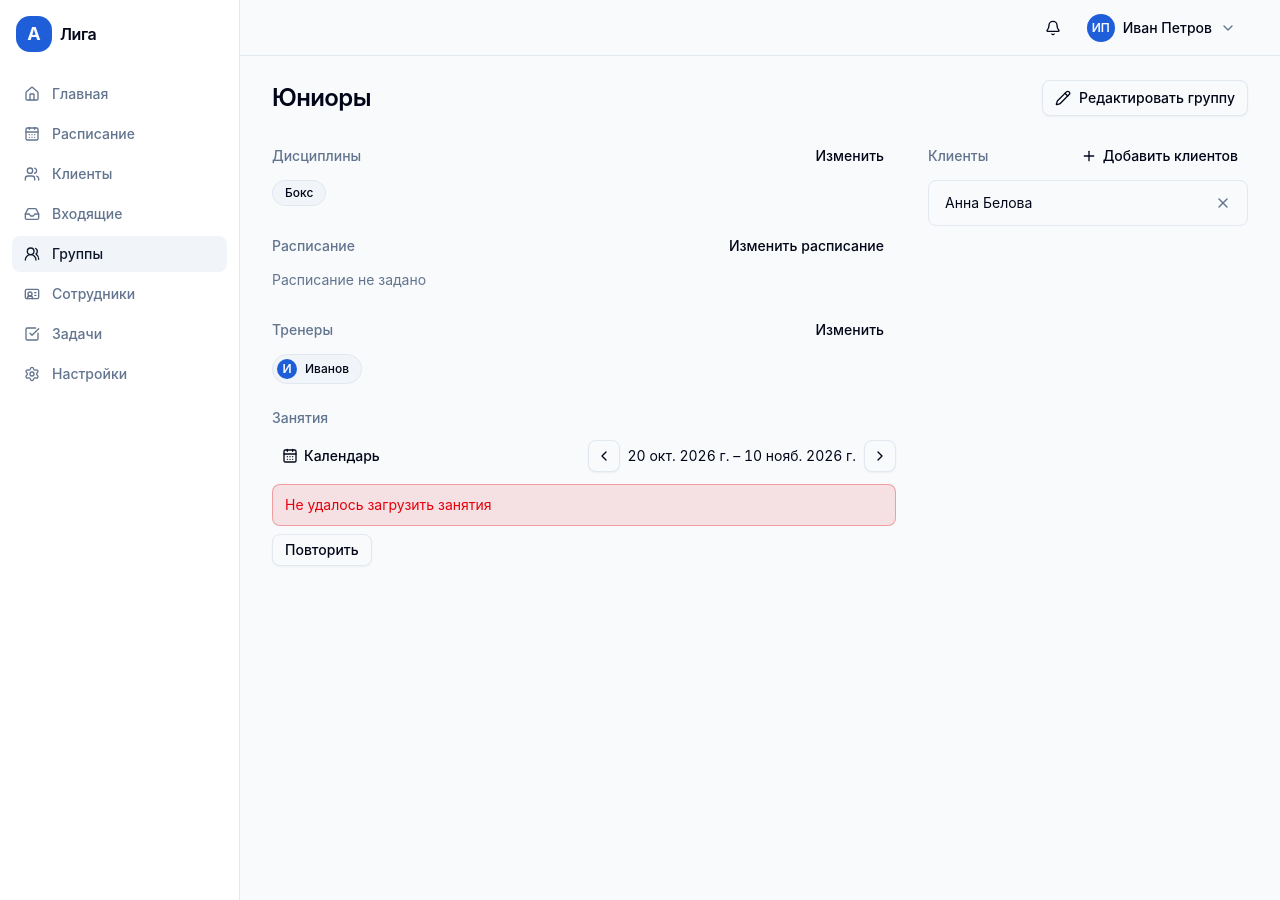
дисциплины и тренеры в карточке › при ошибке сохранения панель остаётся открытой, карточка не меняется
This screenshot has width=1280, height=900.
Expected: the list item "Иванов" is shown, top-left (305, 361), bottom-right (349, 376)
Click the button "Изменить" in the row of "Тренеры" at (850, 330), box top-left (804, 314), bottom-right (896, 346)
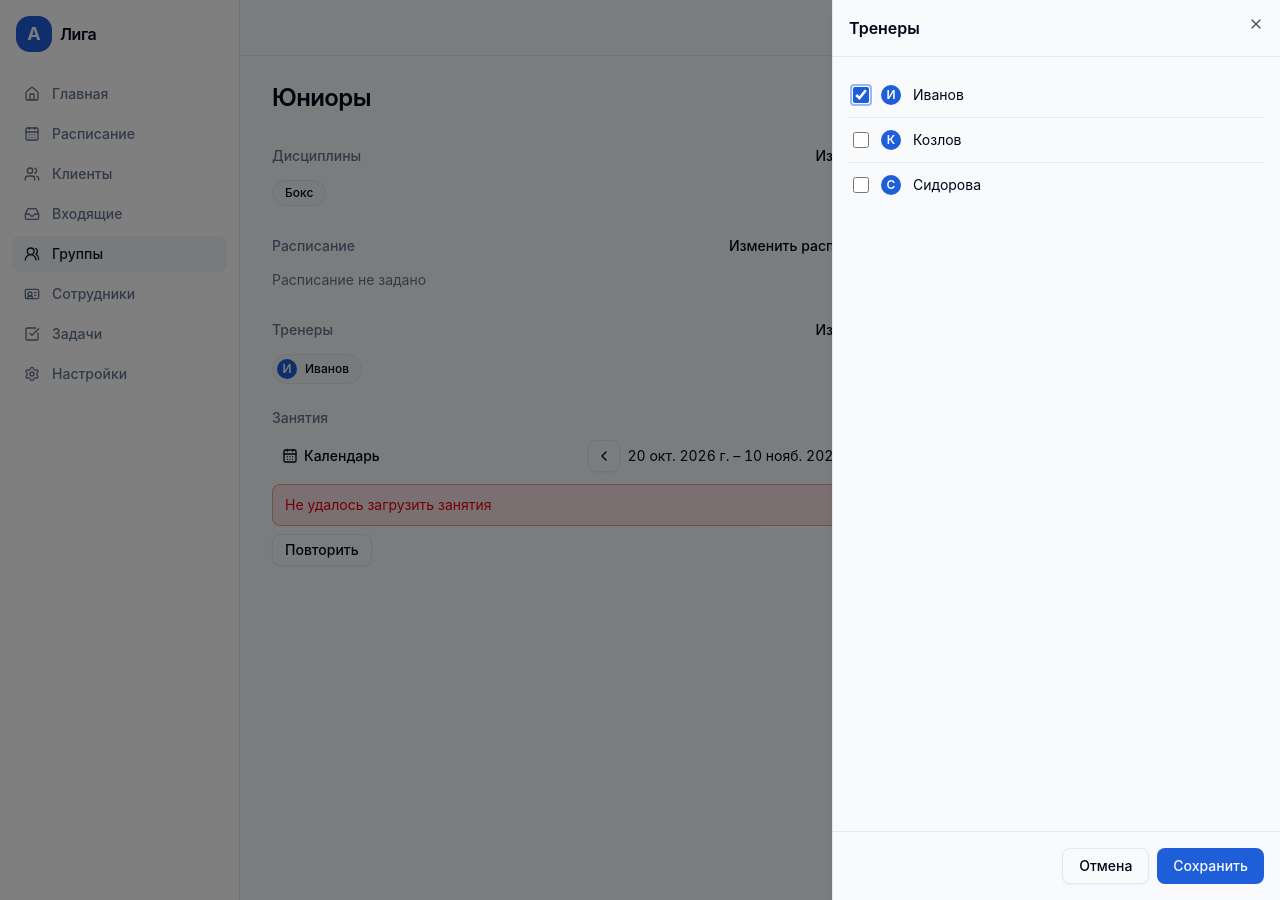
Click the checkbox labelled "Сидорова" at (861, 185), box top-left (853, 177), bottom-right (869, 193)
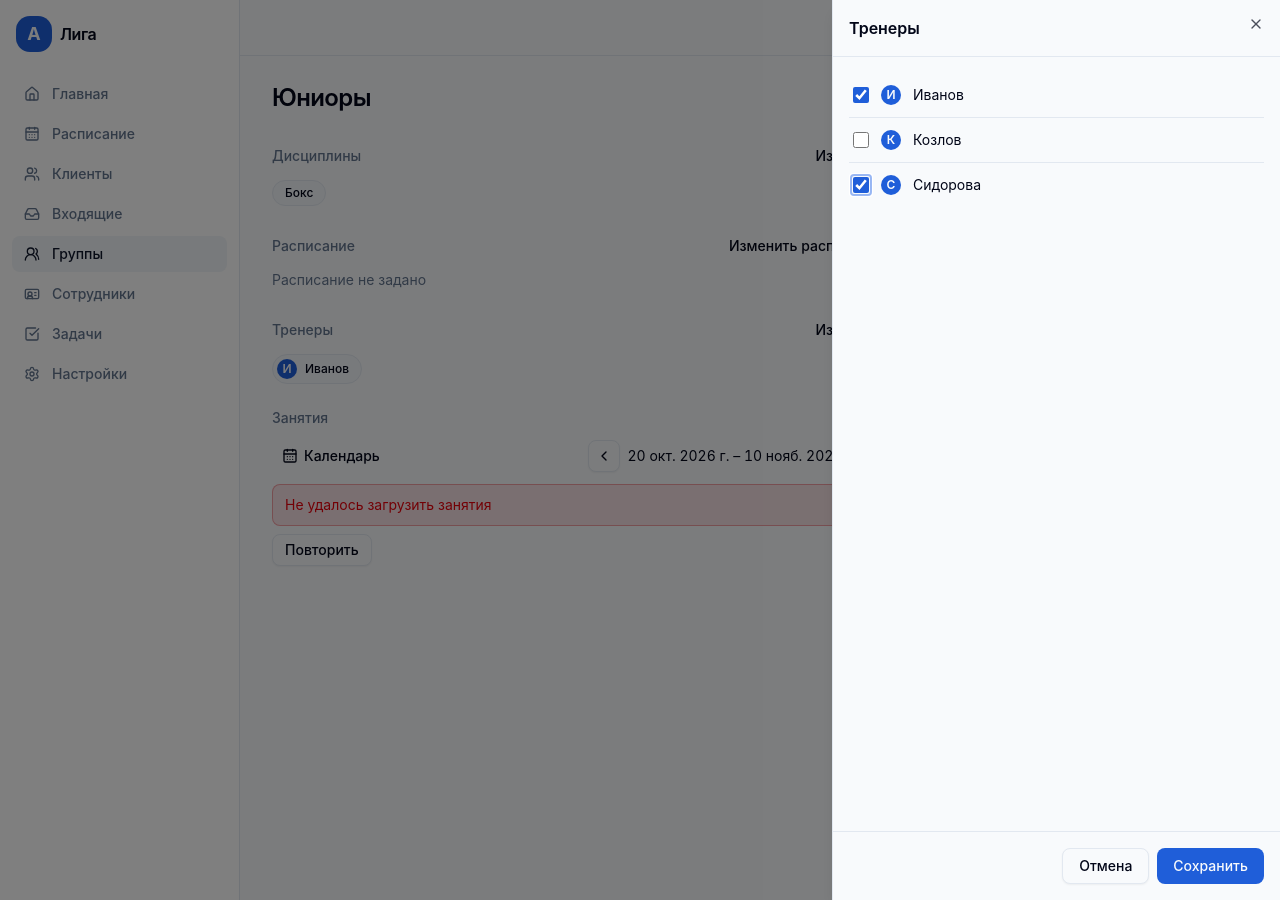
Click the button "Сохранить" at (1211, 866), box top-left (1157, 848), bottom-right (1264, 884)
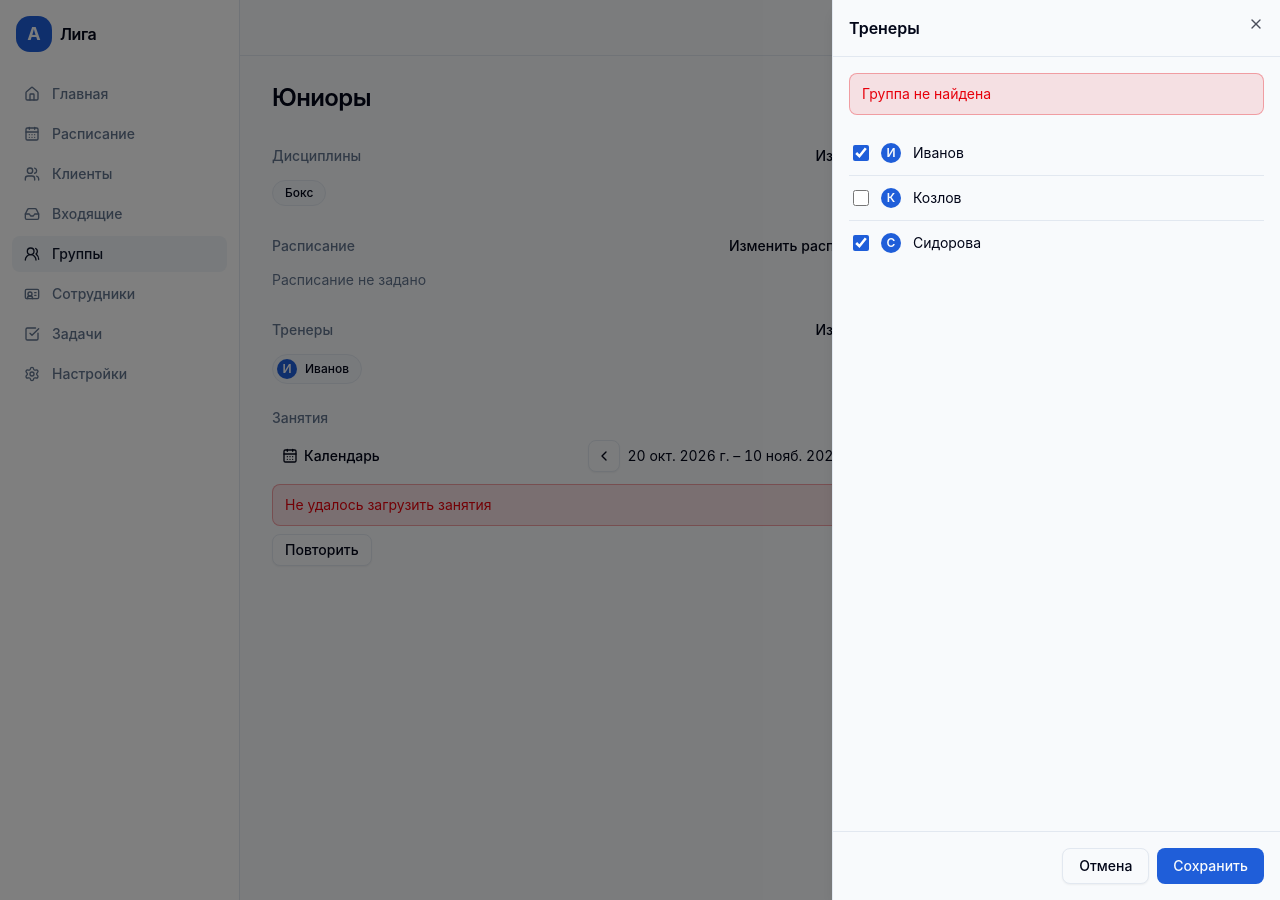
Expected: the checkbox labelled "Сидорова" is checked, top-left (853, 235), bottom-right (869, 251)
Expected: the message reads "Группа не найдена", top-left (862, 85), bottom-right (991, 102)
